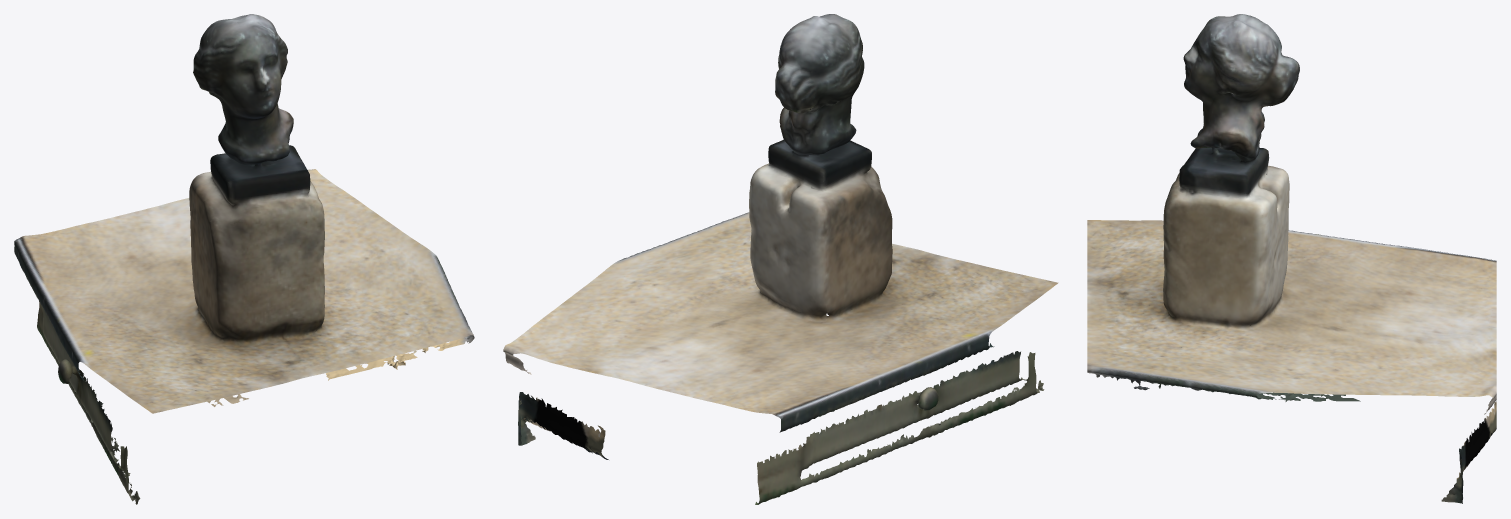
The model's file is tete.glb.
3 renders of one model, left to right at view 1: azimuth 30°, elevation 25°; view 2: azimuth 150°, elevation 25°; view 3: azimuth 270°, elevation 25°, orthographic. The views are drawn at different scales.
Visible parts, largest first — view 1: Model.002; view 2: Model.002; view 3: Model.002.
Boxes of the visible parts, left/top/right/bottom form: Model.002: left=14, top=14, right=474, bottom=504; Model.002: left=503, top=14, right=1058, bottom=504; Model.002: left=1087, top=14, right=1496, bottom=503.
Size of the model in its own units: 0.489 by 0.5174 by 0.489.
1 material, 1 textured.
